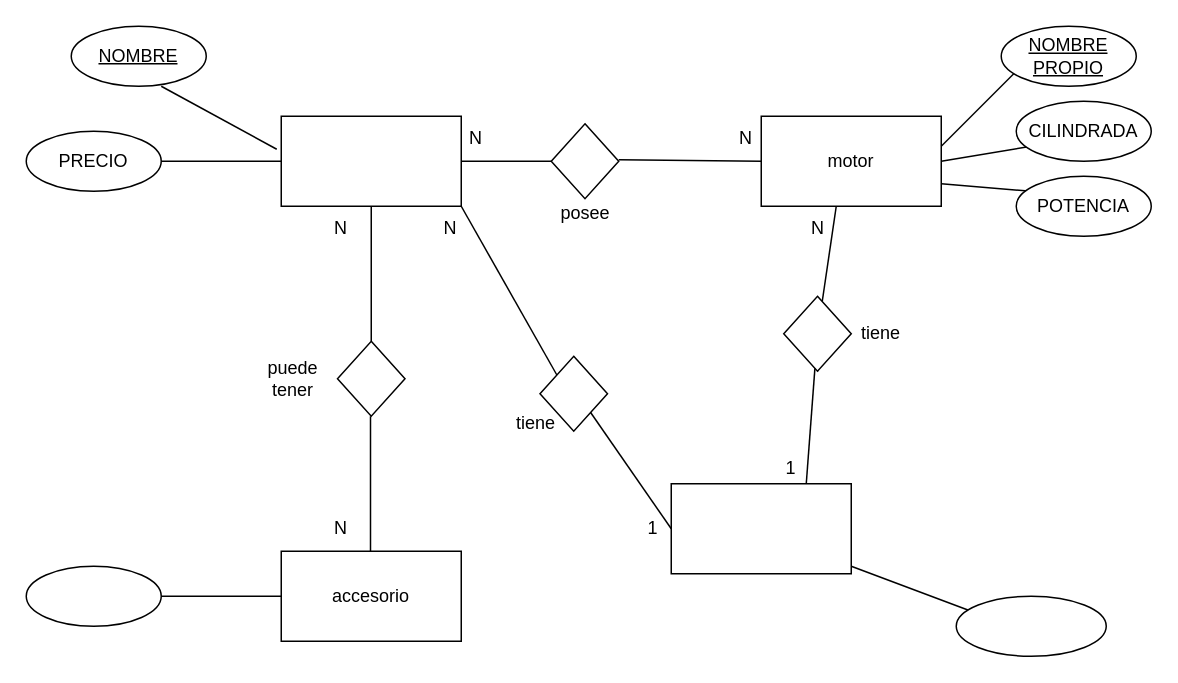
The diagram is 1178 pixels wide and 683 high, and some of its shapes have lost their labels. The centre of each missing label's shape, as x and y in pixels:
CODIGO: point (93, 595)
marca: point (760, 528)
modelo de auto: point (370, 160)
NACIONALIDAD: point (1030, 625)
